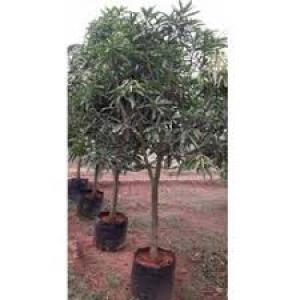Tree: (73, 7, 222, 294)
